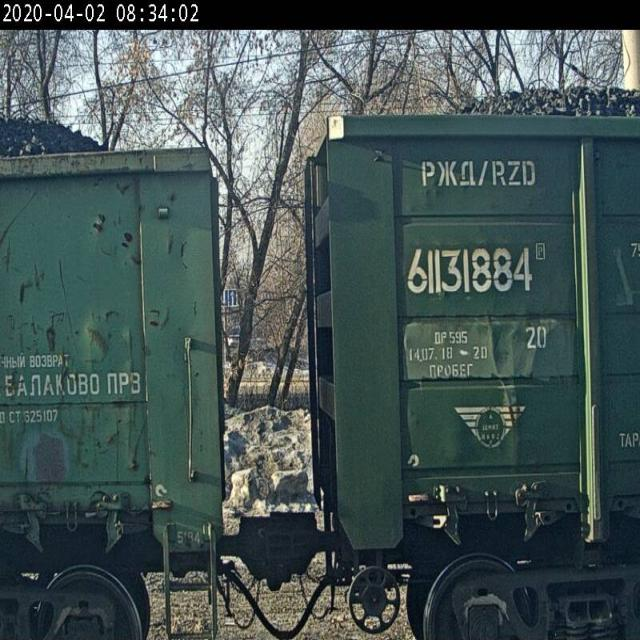gondola: (302, 65, 639, 640), (0, 102, 246, 640)
